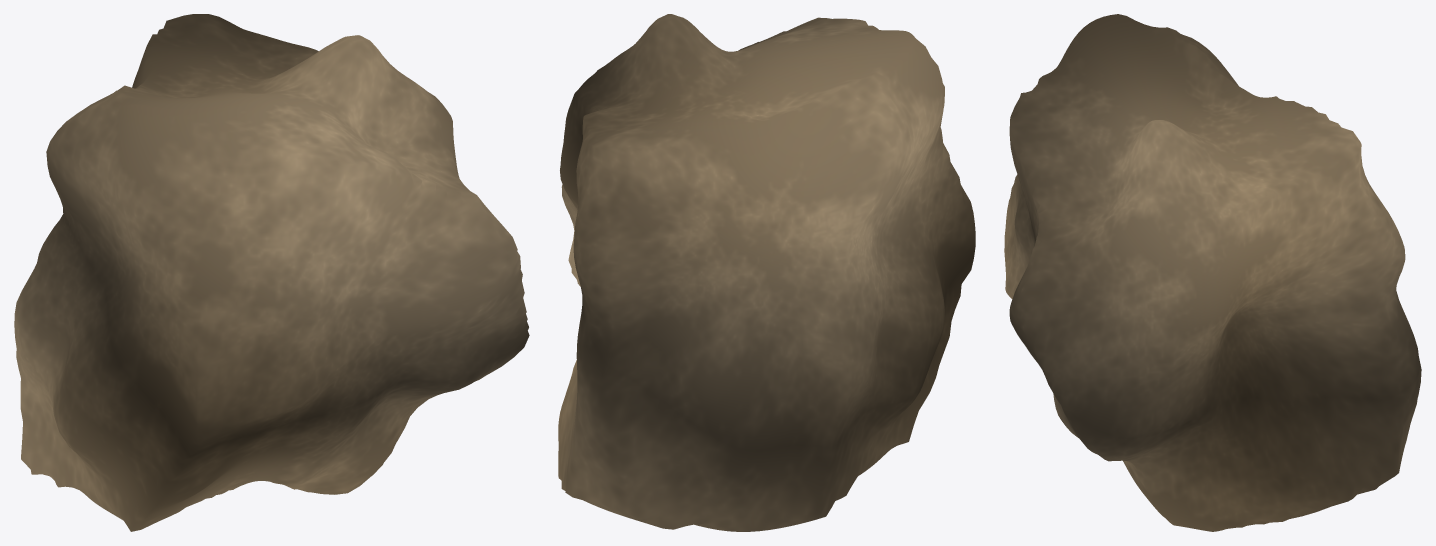
Rendered from asteroid-rubble.glb.
The picture shows the model from 3 angles, left to right: view 1: azimuth 30°, elevation 25°; view 2: azimuth 150°, elevation 25°; view 3: azimuth 270°, elevation 25°; orthographic projection. The views are drawn at different scales.
Parts seen in each view (by area): view 1: asteroid_4002; view 2: asteroid_4002; view 3: asteroid_4002.
Boxes of the visible parts, x1,y1,x2,y2 form: asteroid_4002: [14, 14, 529, 531]; asteroid_4002: [558, 14, 975, 531]; asteroid_4002: [1004, 14, 1421, 531].
Bounding box in the file's own units: 56.24 × 61.96 × 56.82.
Materials: 1 (1 with a texture image).
